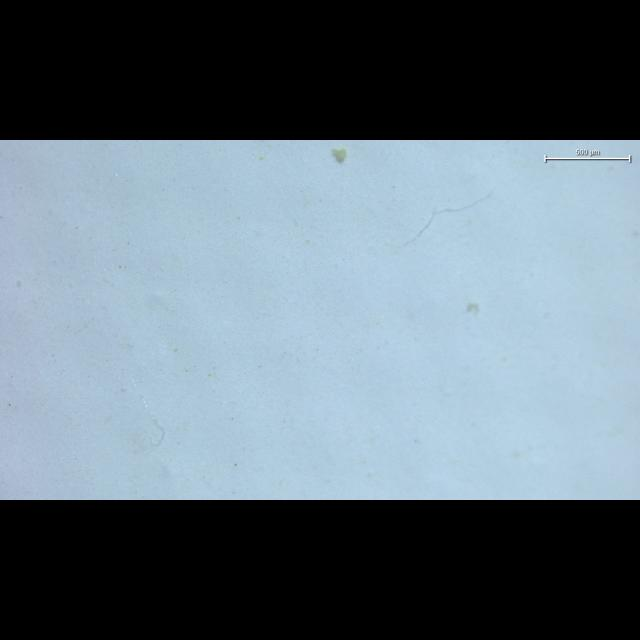Fibre: (400, 191, 492, 247)
Fragment: (332, 148, 347, 162)
